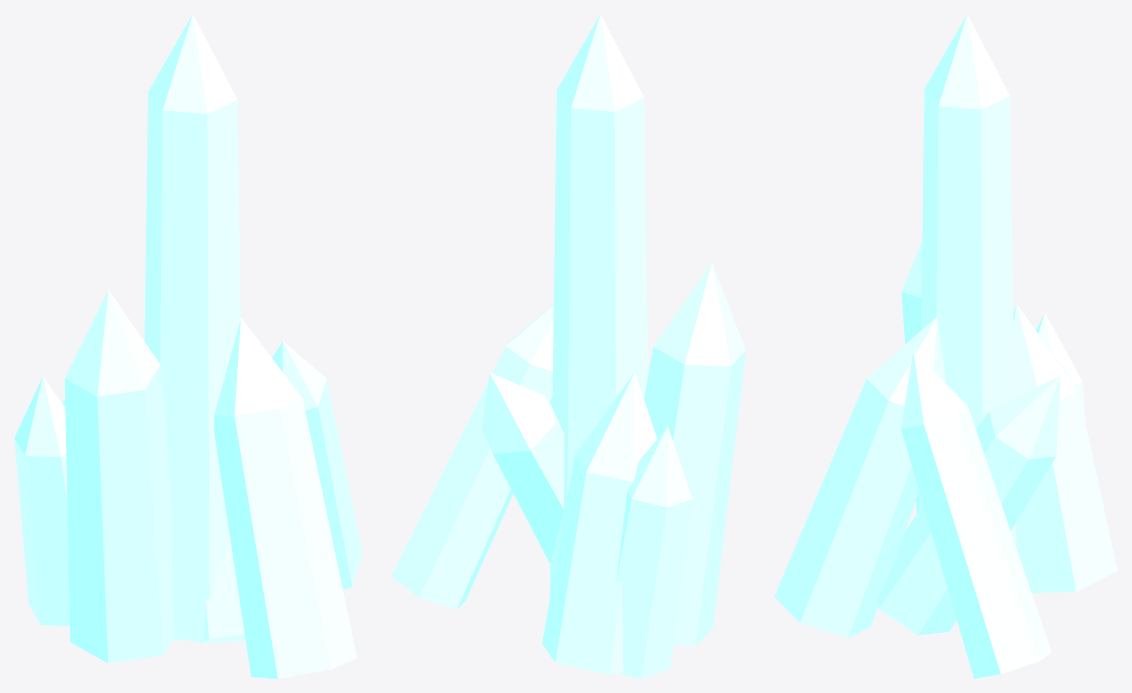
The model's file is crystals_a.glb.
3 renders of one model, left to right at view 1: azimuth 30°, elevation 25°; view 2: azimuth 150°, elevation 25°; view 3: azimuth 270°, elevation 25°, orthographic. The views are drawn at different scales.
Visible parts, largest first — view 1: crystals_a; view 2: crystals_a; view 3: crystals_a.
Part boxes in pixels (x1,y1,x2,y2): crystals_a: (14,14,362,678); crystals_a: (391,14,745,678); crystals_a: (774,14,1117,678).
Bounding box in the file's own units: 3.02 × 5.71 × 2.95.
